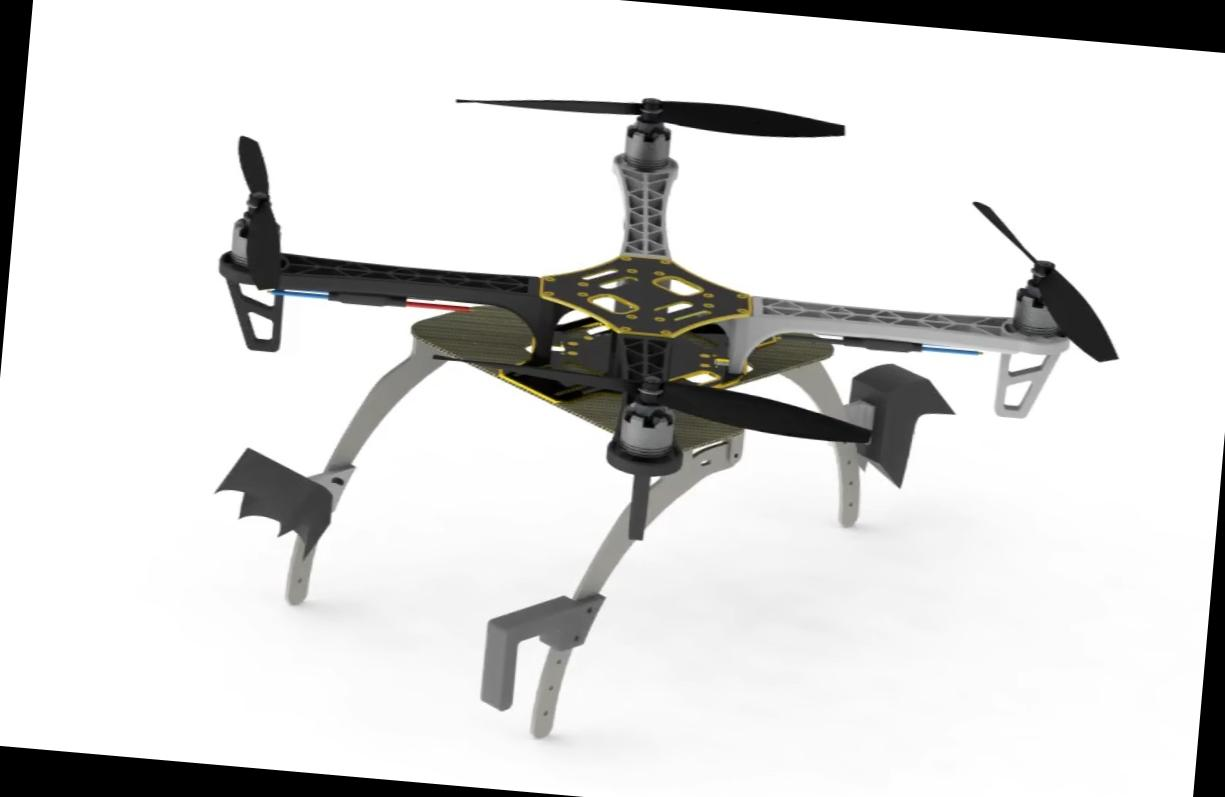drone: (130, 35, 1198, 595)
